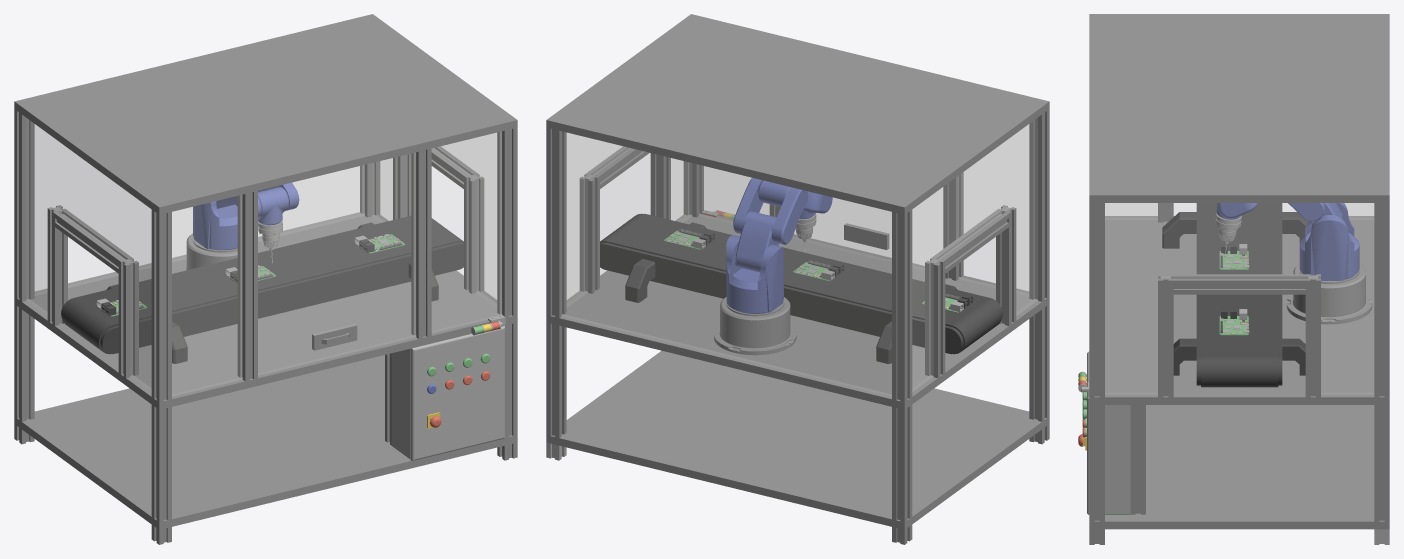
The picture shows the model from 3 angles, left to right: view 1: azimuth 30°, elevation 25°; view 2: azimuth 150°, elevation 25°; view 3: azimuth 270°, elevation 25°; orthographic projection. The views are drawn at different scales.
Visible parts, largest first — view 1: roof, Body34, Body54, Body24, Body65, Body56, Body51, Body53, Body55, Body337, Body52, Body25 (+20 smaller); view 2: Body56, roof, Body34, Body24, Body65, Body51, Body53, Body52, Body54, Body27, Body28, Body25 (+18 smaller); view 3: roof, Body52, Body34, Body24, Body65, Body337, Body26, Body28, Body35, Body18, Body23, Body44 (+9 smaller).
Boxes of the visible parts, x1=… form: roof: x1=14, y1=14, x2=517, y2=214; Body34: x1=14, y1=355, x2=517, y2=529; Body54: x1=258, y1=153, x2=415, y2=375; Body24: x1=14, y1=212, x2=517, y2=409; Body65: x1=61, y1=215, x2=463, y2=363; Body56: x1=35, y1=125, x2=364, y2=295; Body51: x1=26, y1=118, x2=151, y2=391; Body53: x1=172, y1=195, x2=242, y2=396; Body55: x1=432, y1=132, x2=501, y2=332; Body337: x1=391, y1=325, x2=504, y2=460; Body52: x1=372, y1=133, x2=496, y2=306; Body25: x1=151, y1=210, x2=171, y2=402; Body56: x1=562, y1=132, x2=891, y2=396; roof: x1=546, y1=14, x2=1049, y2=214; Body34: x1=546, y1=350, x2=1049, y2=529; Body24: x1=546, y1=213, x2=1049, y2=409; Body65: x1=600, y1=213, x2=1002, y2=363; Body51: x1=912, y1=118, x2=1037, y2=391; Body53: x1=959, y1=125, x2=1028, y2=295; Body52: x1=567, y1=133, x2=691, y2=306; Body54: x1=793, y1=188, x2=942, y2=269; Body27: x1=892, y1=210, x2=912, y2=402; Body28: x1=546, y1=127, x2=566, y2=317; Body25: x1=1029, y1=109, x2=1049, y2=301; roof: x1=1089, y1=14, x2=1389, y2=202; Body52: x1=1105, y1=203, x2=1373, y2=394; Body34: x1=1089, y1=405, x2=1389, y2=529; Body24: x1=1089, y1=216, x2=1389, y2=404; Body65: x1=1162, y1=203, x2=1308, y2=387; Body337: x1=1078, y1=351, x2=1130, y2=514; Body26: x1=1089, y1=203, x2=1104, y2=397; Body28: x1=1374, y1=203, x2=1389, y2=397; Body35: x1=1173, y1=274, x2=1305, y2=294; Body18: x1=1286, y1=264, x2=1372, y2=324; Body23: x1=1311, y1=217, x2=1348, y2=280; Body44: x1=1158, y1=274, x2=1173, y2=397.
Size of the model in its own units: 5.18 by 4.5 by 3.63.
